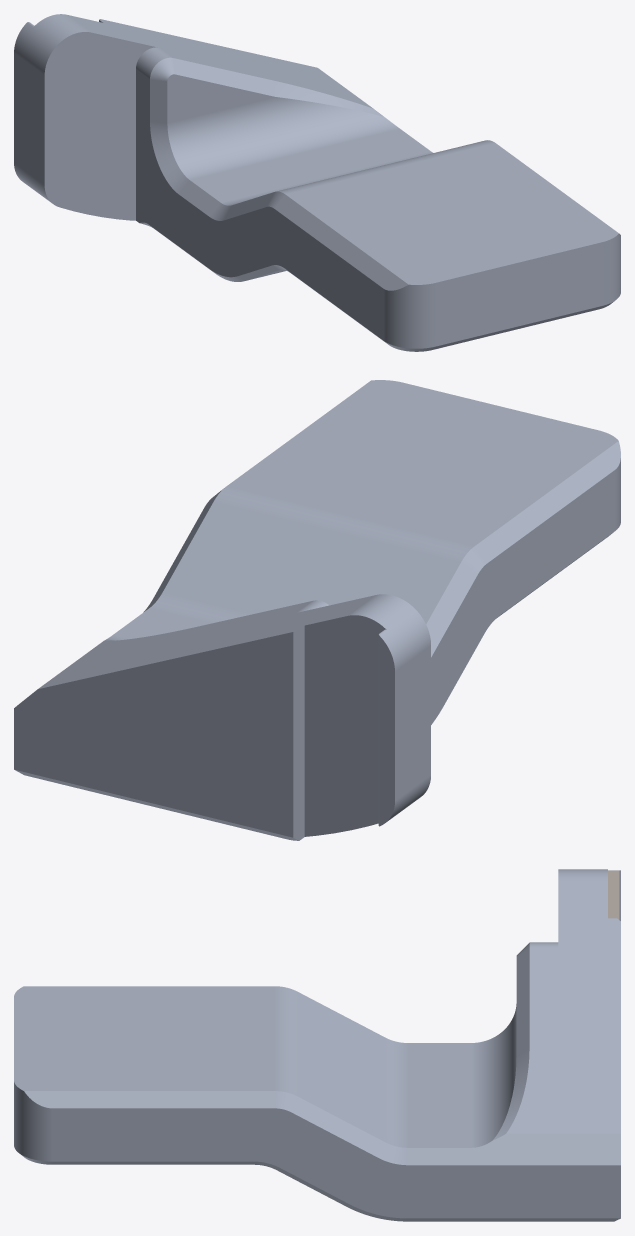
File: robotiq_hand-e_finger-left.obj
3 views of the same model, one above another, from view 1: azimuth 30°, elevation 25°; view 2: azimuth 150°, elevation 25°; view 3: azimuth 270°, elevation 25° (orthographic). The views are drawn at different scales.
Parts seen in each view (by area): view 1: mesh39, mesh12, mesh53, mesh58, mesh36, mesh56, mesh59, mesh5, mesh37, mesh62, mesh40, mesh7 (+11 smaller); view 2: mesh20, mesh39, mesh48, mesh8, mesh53, mesh59, mesh47, mesh5, mesh40, mesh7, mesh4, mesh49 (+5 smaller); view 3: mesh44, mesh39, mesh59, mesh48, mesh56, mesh57, mesh58, mesh42, mesh47, mesh51, mesh38, mesh46 (+7 smaller).
Boxes of the visible parts, bbox=[...] form: mesh39: bbox=[286, 143, 618, 284]; mesh12: bbox=[44, 32, 157, 220]; mesh53: bbox=[136, 69, 383, 340]; mesh58: bbox=[167, 97, 399, 179]; mesh36: bbox=[435, 242, 601, 346]; mesh56: bbox=[190, 129, 430, 202]; mesh59: bbox=[68, 15, 373, 108]; mesh5: bbox=[14, 53, 44, 184]; mesh37: bbox=[383, 283, 435, 348]; mesh62: bbox=[167, 74, 274, 122]; mesh40: bbox=[275, 195, 408, 290]; mesh7: bbox=[14, 14, 90, 75]; mesh20: bbox=[14, 632, 293, 837]; mesh39: bbox=[227, 380, 618, 546]; mesh48: bbox=[163, 502, 460, 624]; mesh8: bbox=[304, 615, 386, 836]; mesh53: bbox=[431, 470, 614, 724]; mesh59: bbox=[38, 595, 375, 688]; mesh47: bbox=[213, 486, 473, 562]; mesh5: bbox=[395, 646, 430, 800]; mesh40: bbox=[474, 441, 620, 563]; mesh7: bbox=[348, 594, 430, 671]; mesh4: bbox=[379, 636, 394, 826]; mesh49: bbox=[426, 563, 477, 657]; mesh44: bbox=[53, 1108, 620, 1218]; mesh39: bbox=[14, 986, 274, 1090]; mesh59: bbox=[506, 883, 620, 1133]; mesh48: bbox=[298, 992, 385, 1141]; mesh56: bbox=[408, 1043, 470, 1147]; mesh57: bbox=[408, 1133, 620, 1165]; mesh58: bbox=[471, 1004, 516, 1147]; mesh42: bbox=[24, 1091, 274, 1108]; mesh47: bbox=[275, 986, 297, 1096]; mesh51: bbox=[385, 1037, 407, 1147]; mesh38: bbox=[14, 1082, 52, 1161]; mesh46: bbox=[291, 1097, 384, 1157].
Size of the model in its own units: 0.0292 by 0.0175 by 0.0465.
